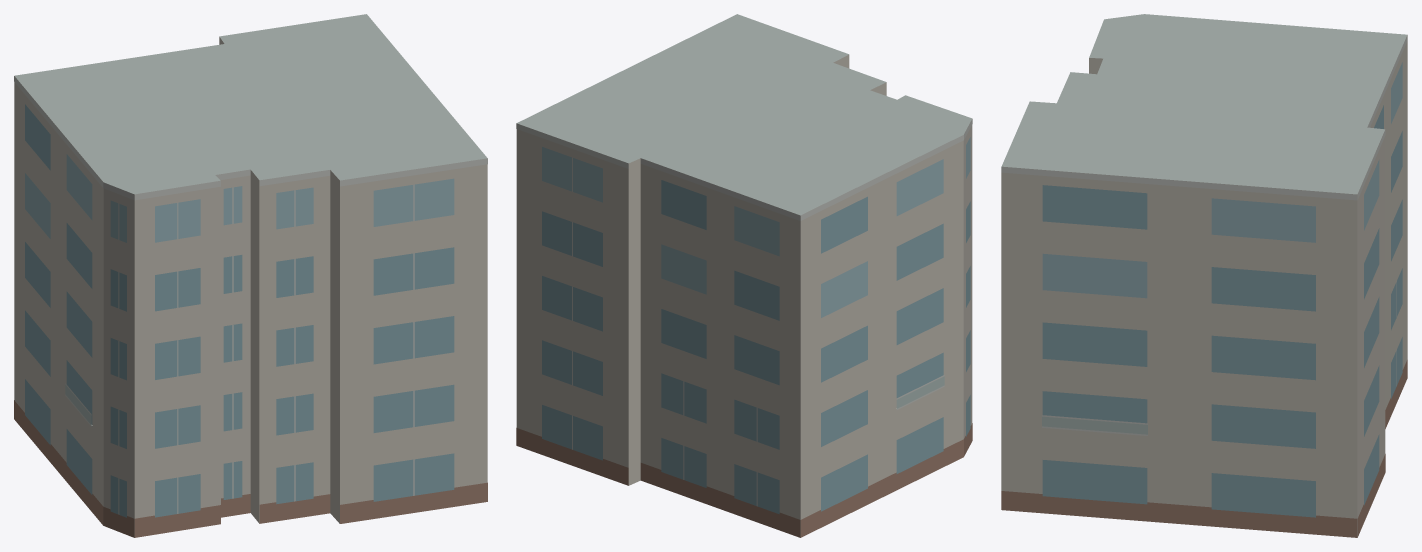
File: survey-upis-32710763.glb
The picture shows the model from 3 angles, left to right: view 1: azimuth 30°, elevation 25°; view 2: azimuth 150°, elevation 25°; view 3: azimuth 270°, elevation 25°; orthographic projection. The views are drawn at different scales.
Visible parts, largest first — view 1: survey-upis-32710763.tmp; view 2: survey-upis-32710763.tmp; view 3: survey-upis-32710763.tmp.
Boxes of the visible parts, box(x1,y1,x2,y2) form: survey-upis-32710763.tmp: box(14, 14, 487, 537); survey-upis-32710763.tmp: box(516, 14, 972, 537); survey-upis-32710763.tmp: box(1001, 14, 1407, 537).
Size of the model in its own units: 15.79 by 14 by 15.01.
